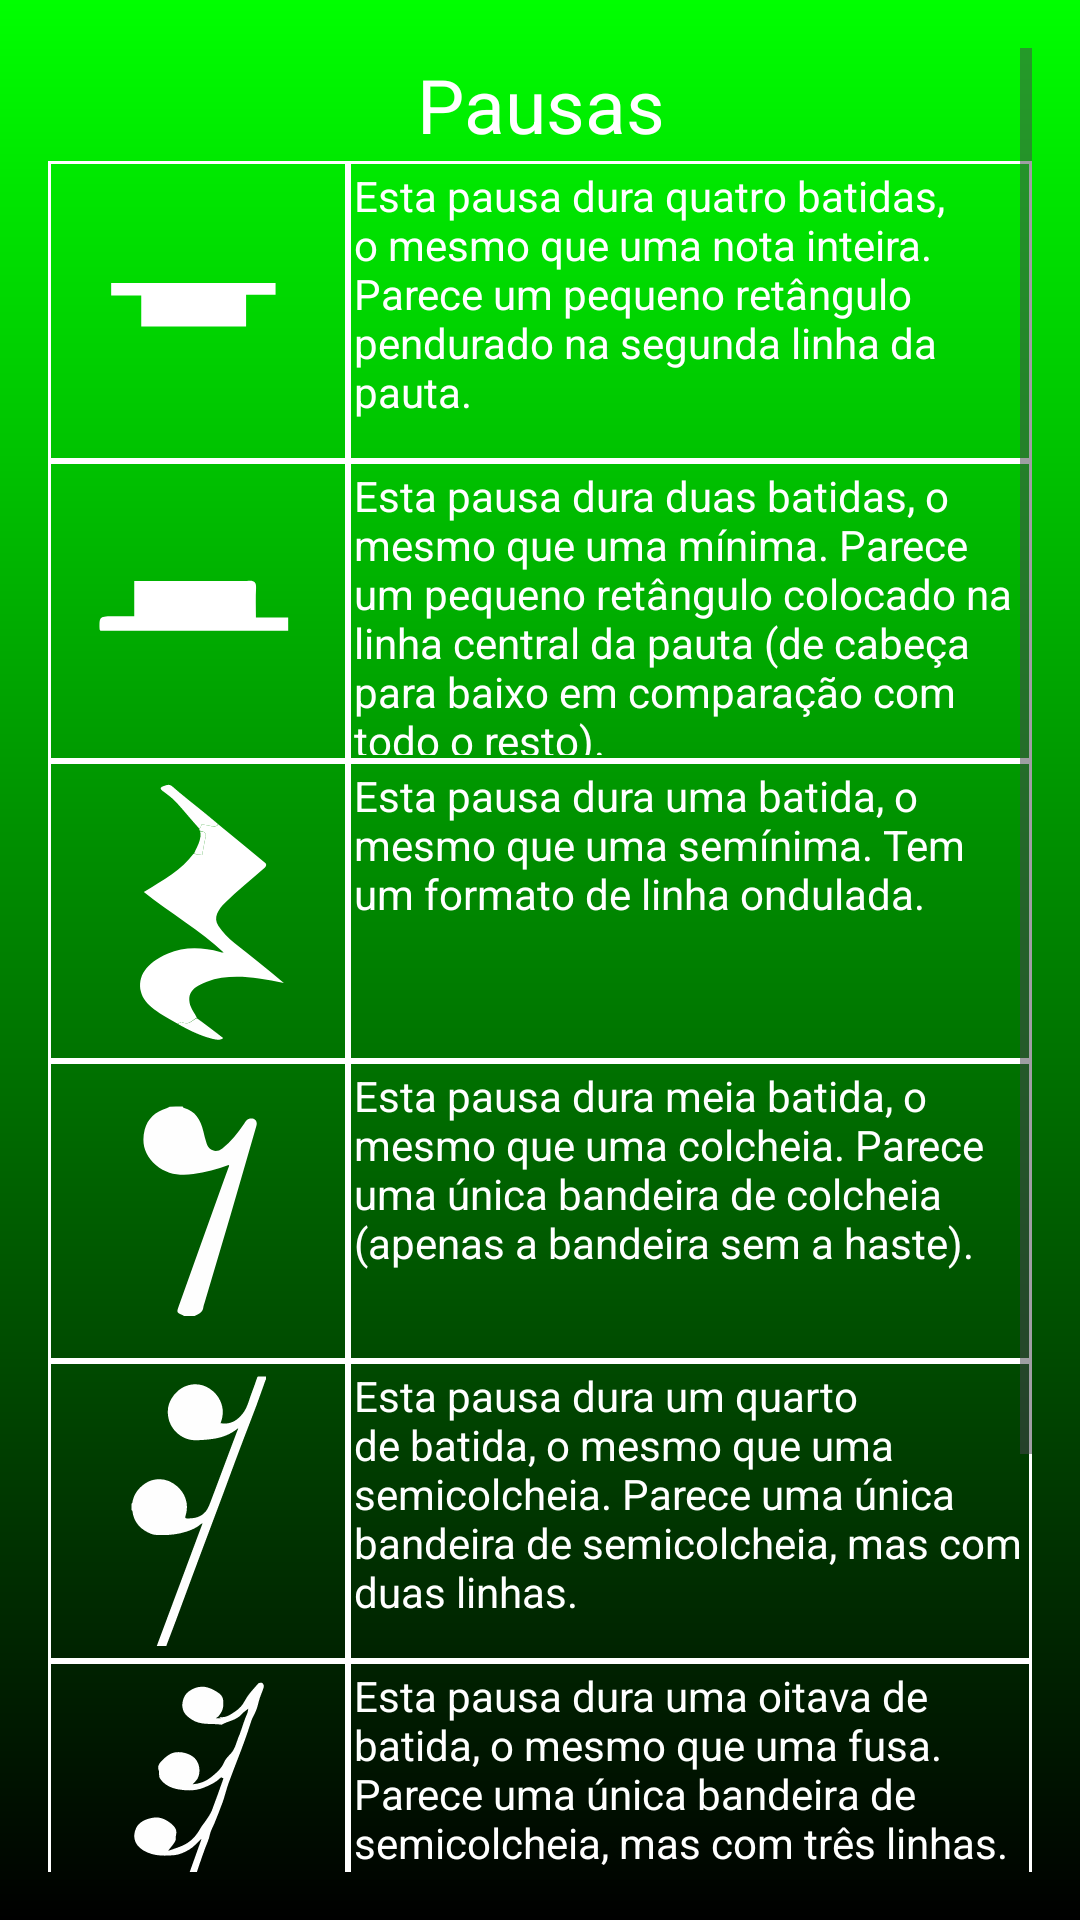

Where to tap for icons on this 1080*1920 app screen, as (x,y):
pausa minima: (198,611)
pausa seminima: (198,911)
